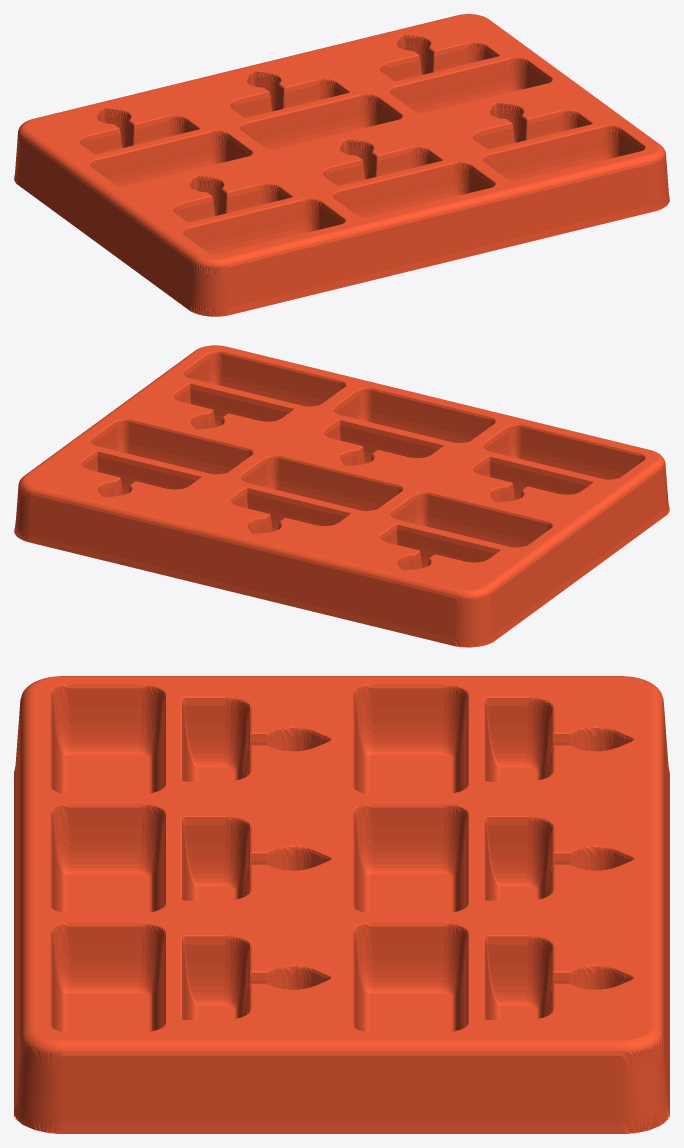
File: mold.glb
3 views of the same model, one above another, from view 1: azimuth 30°, elevation 25°; view 2: azimuth 150°, elevation 25°; view 3: azimuth 270°, elevation 25° (orthographic). The views are drawn at different scales.
Parts seen in each view (by area): view 1: geometry_0; view 2: geometry_0; view 3: geometry_0.
Part boxes in pixels (x1,y1,x2,y2): geometry_0: [14, 14, 669, 316]; geometry_0: [14, 345, 669, 647]; geometry_0: [14, 676, 669, 1133].
Bounding box in the file's own units: 0.1656 × 0.0175 × 0.1211.
